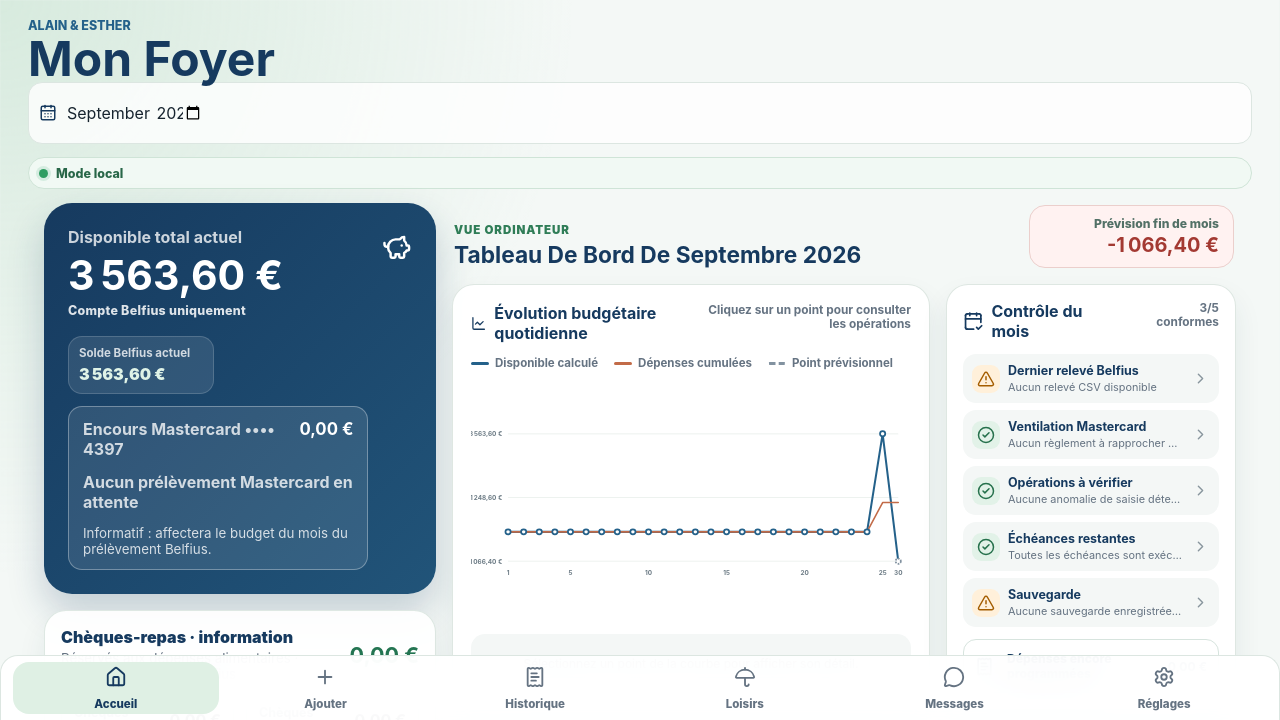
Test: formulaire des opérations › normalise visuellement le montant 130 en 130,00 à la sortie du champ
Click the button "Ajouter".
click(326, 688)  # box [223,662,428,714]
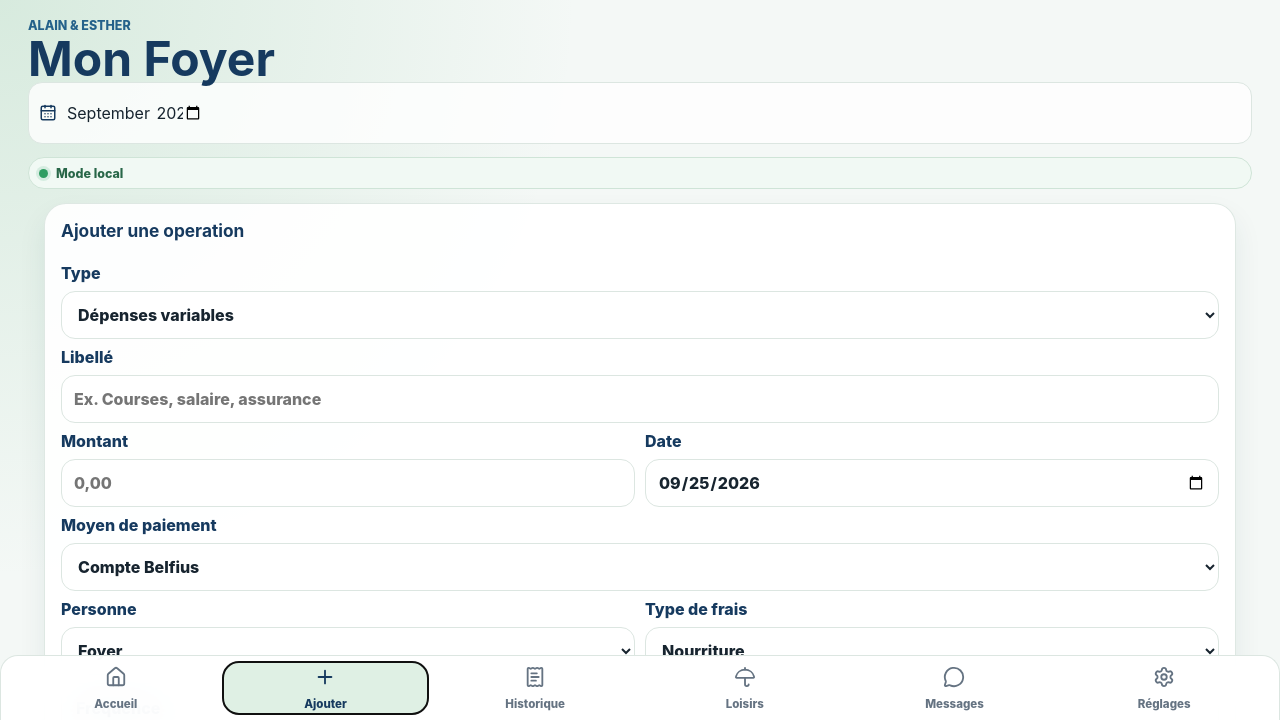
Type "130" into the field labelled "Montant".
click(348, 483); type("130")  # box [61,459,635,507]
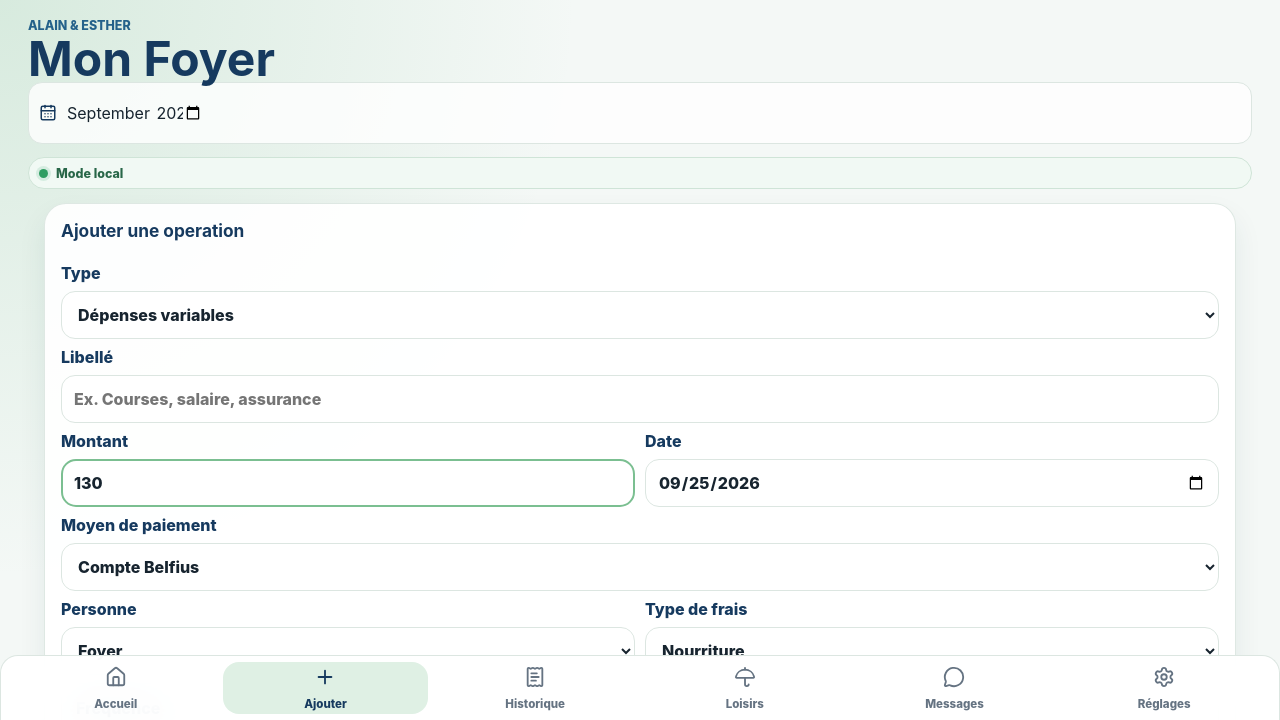
Press Tab
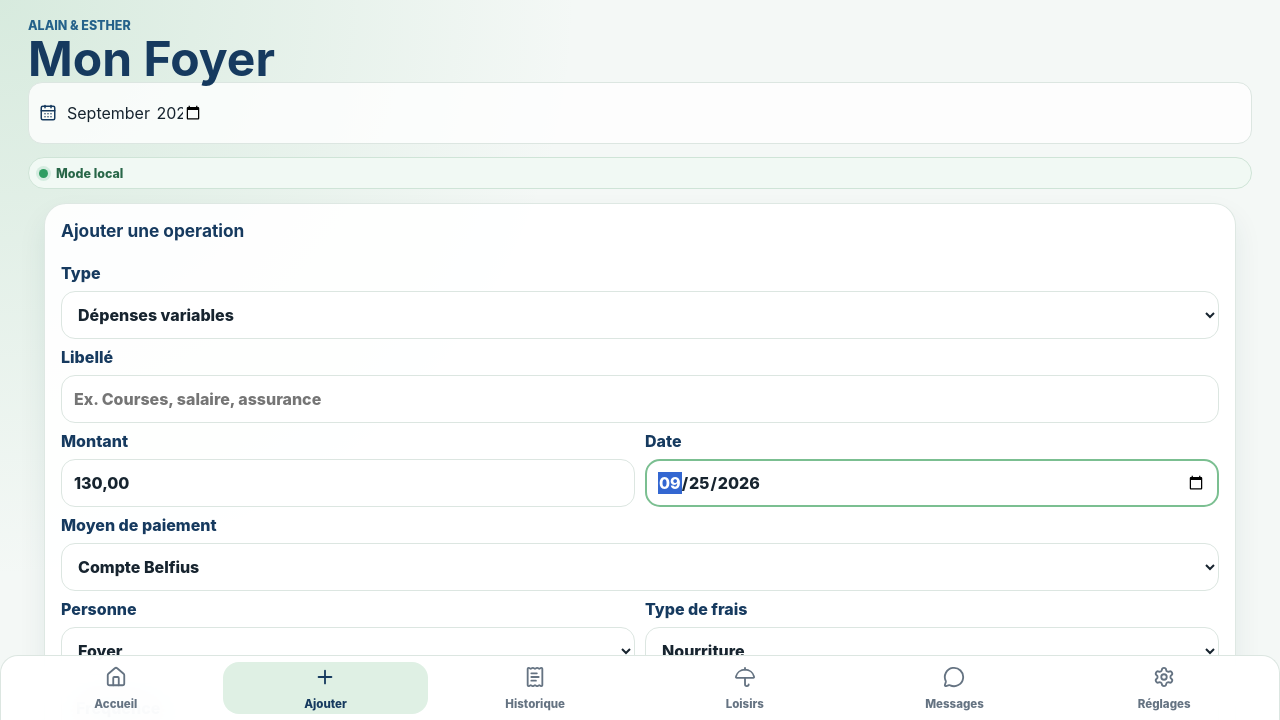
Expected: the field labelled "Montant" holds "130,00", [61,459,635,507]
